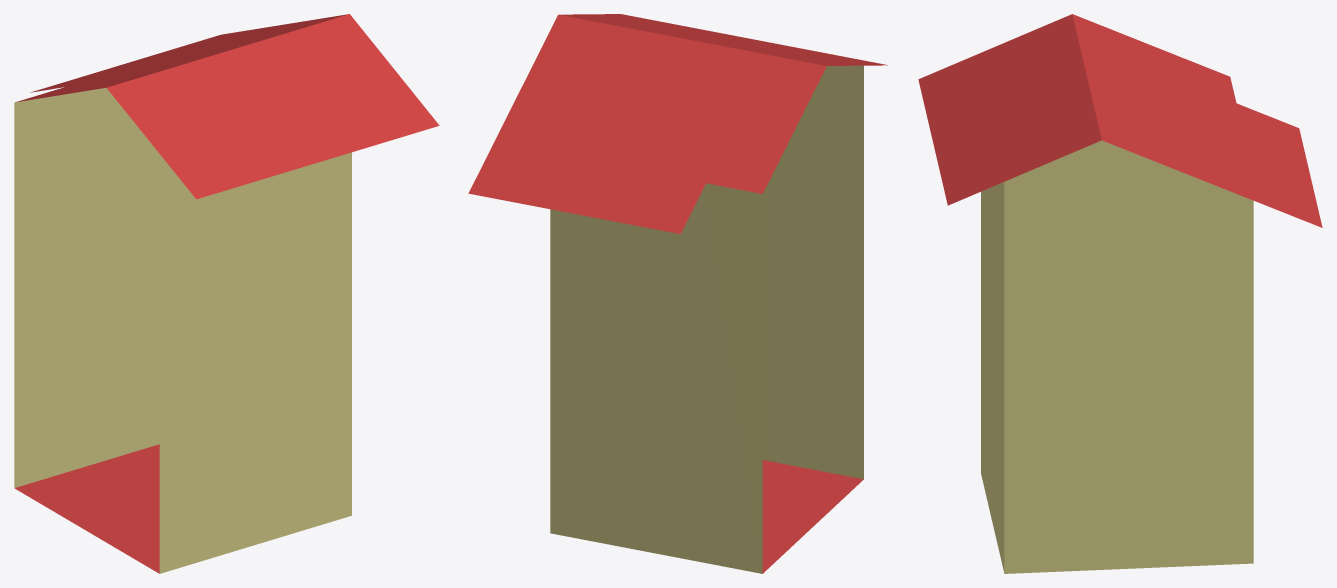
3 renders of one model, left to right at view 1: azimuth 30°, elevation 25°; view 2: azimuth 150°, elevation 25°; view 3: azimuth 270°, elevation 25°, orthographic.
Size of the model in its own units: 5.22 by 6.4 by 7.97.
